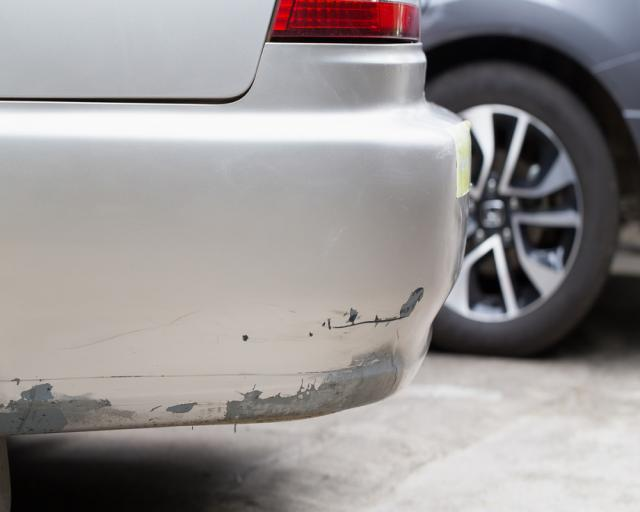scratch: (0, 282, 427, 435)
